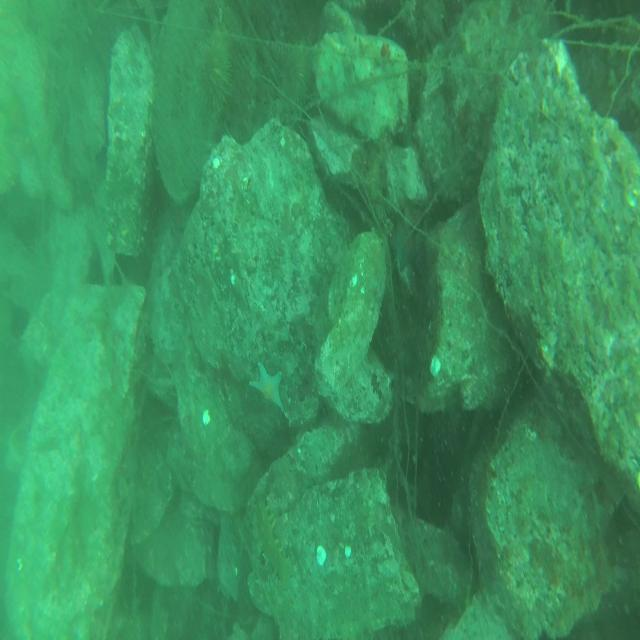echinus: (184, 30, 230, 124), (276, 34, 311, 131)
holothurian: (249, 497, 291, 590)
starfish: (387, 208, 419, 288), (245, 360, 288, 415)
